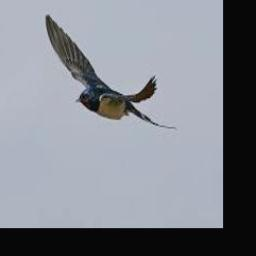Swallow: (45, 12, 176, 131)
